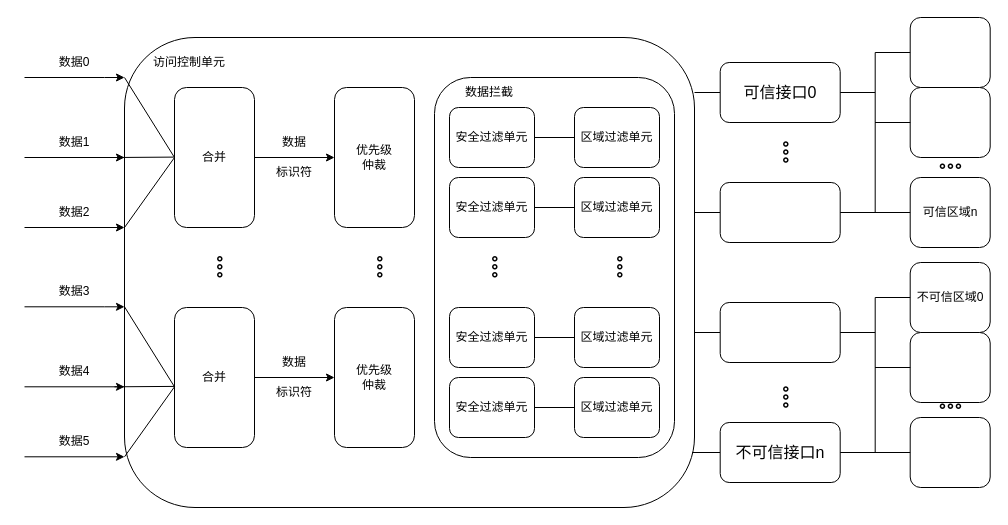
The diagram is 1008 pixels wide and 525 high, and some of its shapes have lost their labels. The box of each missing label's shape, as (x1, y1, x2, y2) in pixels:
不可信区域1: (909, 332, 990, 402)
不可信区域n: (909, 416, 990, 488)
不可信接口0: (719, 302, 840, 362)
可信区域0: (909, 16, 990, 88)
可信区域1: (909, 86, 990, 158)
可信接口n: (719, 182, 840, 242)
